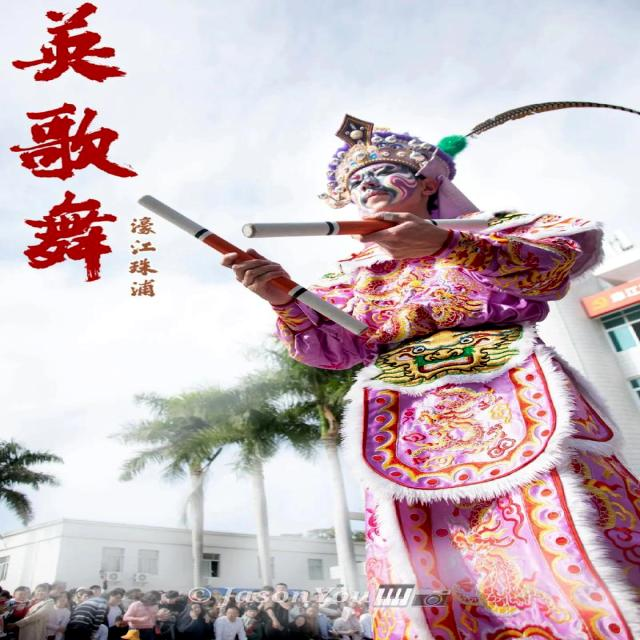Reeves-s Pheasant: (458, 99, 640, 141)
